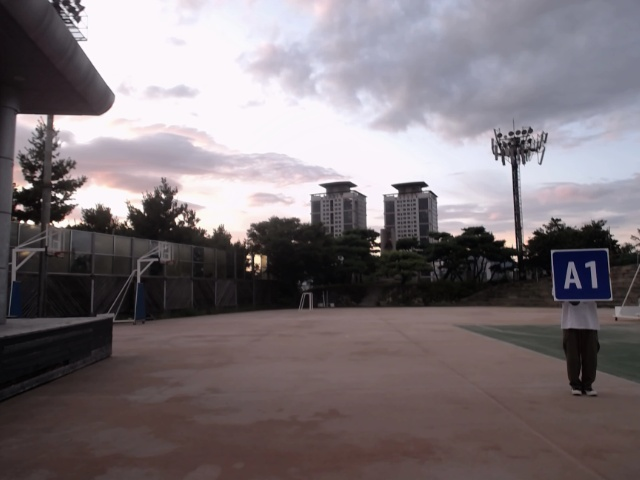delivery_a1: (551, 249, 612, 299)
